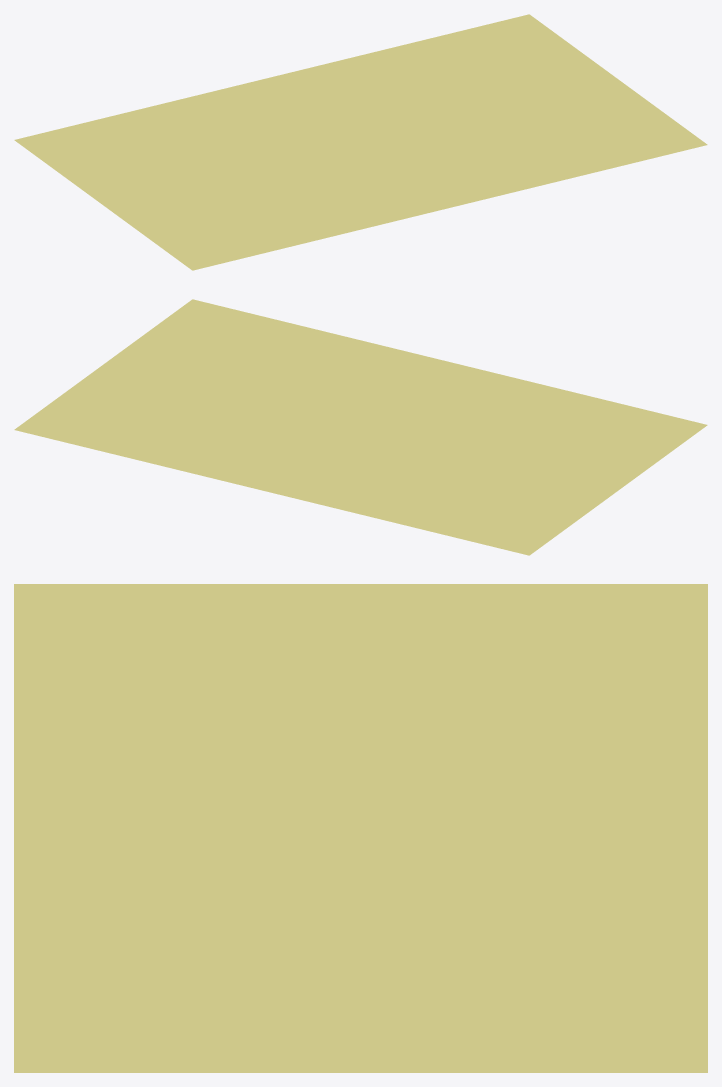
File: Ceiling_5x_3x.FBX
3 renders of one model, top to bottom at view 1: azimuth 30°, elevation 25°; view 2: azimuth 150°, elevation 25°; view 3: azimuth 270°, elevation 25°, orthographic. The views are drawn at different scales.
Parts seen in each view (by area): view 1: Ceiling_5x_3x; view 2: Ceiling_5x_3x; view 3: Ceiling_5x_3x.
Boxes of the visible parts, <box> form: Ceiling_5x_3x: <box>14,14,707,270</box>; Ceiling_5x_3x: <box>14,299,707,555</box>; Ceiling_5x_3x: <box>14,584,707,1072</box>.
Size of the model in its own units: 500 by 300 by 1.31e-05.
